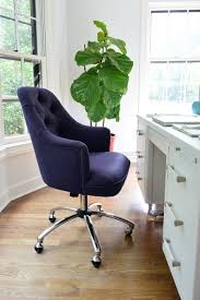chair: (17, 87, 136, 268)
